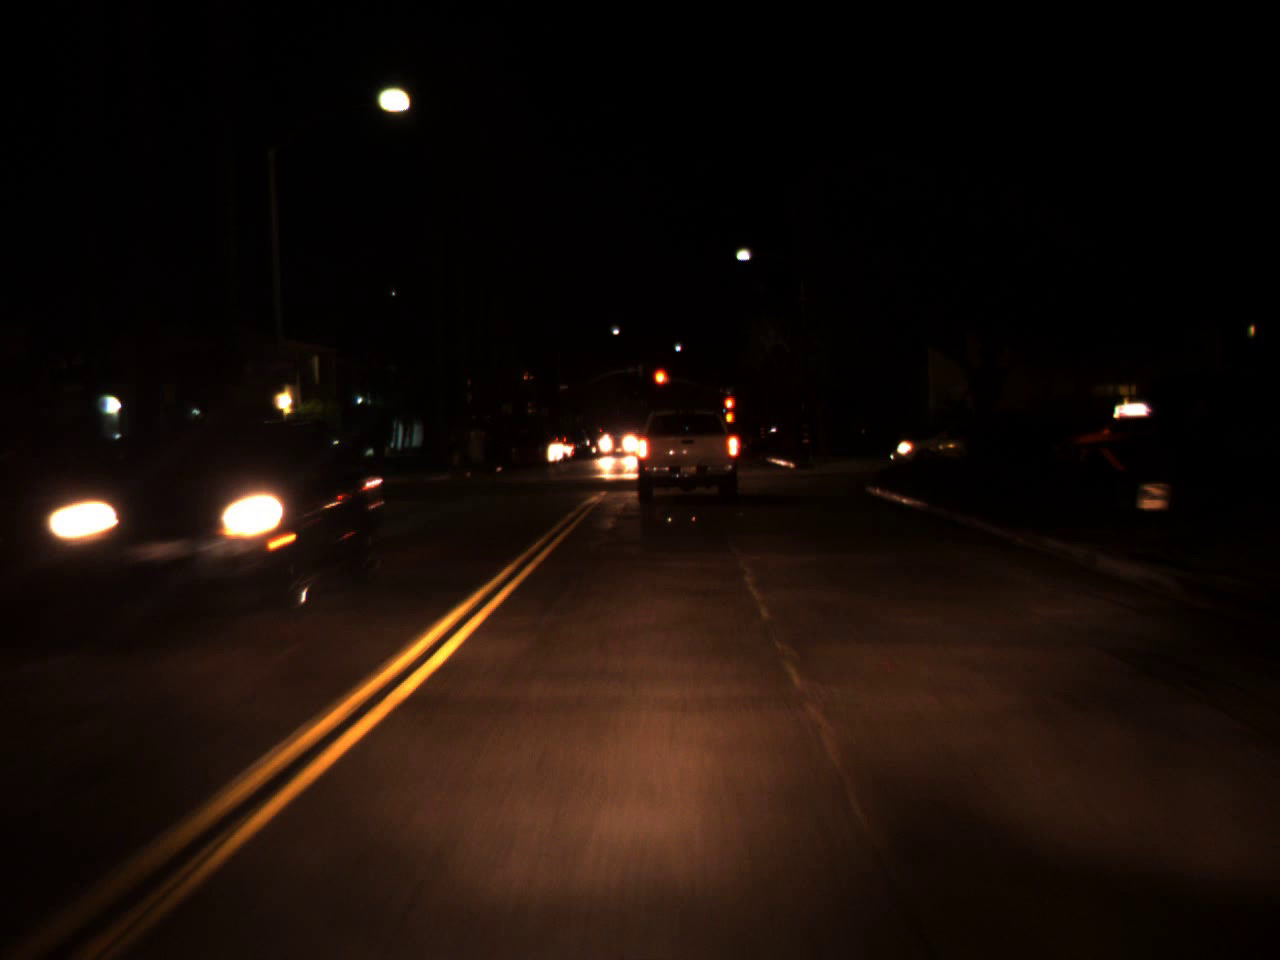stop: (652, 366, 670, 403), (722, 395, 735, 422)
